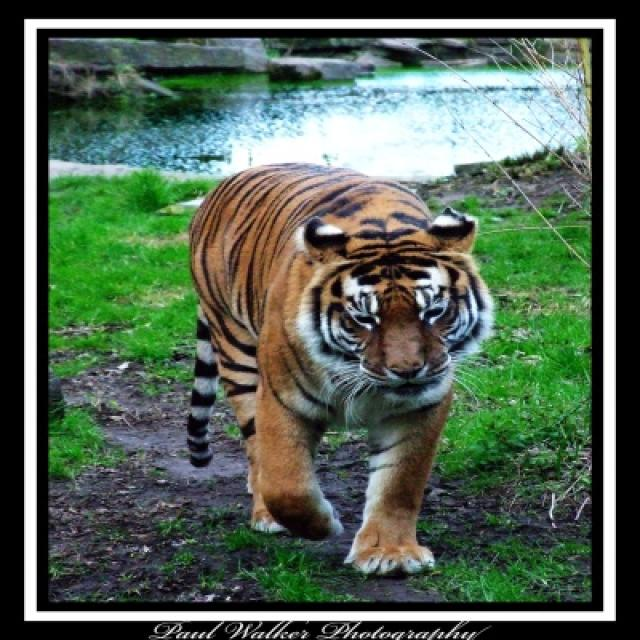Tiger: (186, 164, 498, 564)
